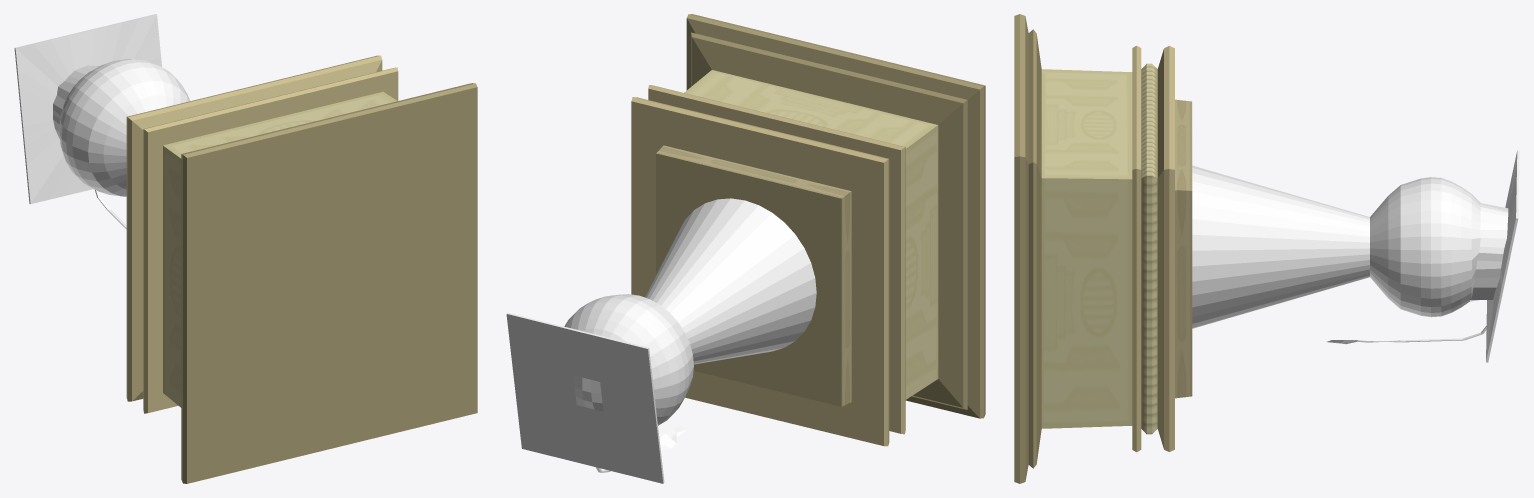
The model's file is Endpunkt.fbx.
3 renders of one model, left to right at view 1: azimuth 30°, elevation 25°; view 2: azimuth 150°, elevation 25°; view 3: azimuth 270°, elevation 25°, orthographic.
Visible parts, largest first — view 1: Cube_001; view 2: Cube_001; view 3: Cube_001.
Boxes of the visible parts, x1,y1,x2,y2 form: Cube_001: (14,14,477,483); Cube_001: (506,14,985,483); Cube_001: (1014,14,1519,483).
Bounding box in the file's own units: 1.81 × 1.94 × 2.72.
Materials: 2 (2 with a texture image).
